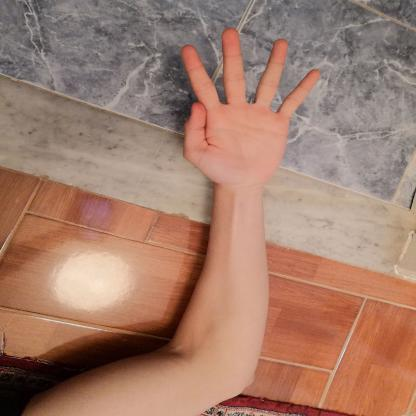SHEEN: (166, 19, 329, 195)
